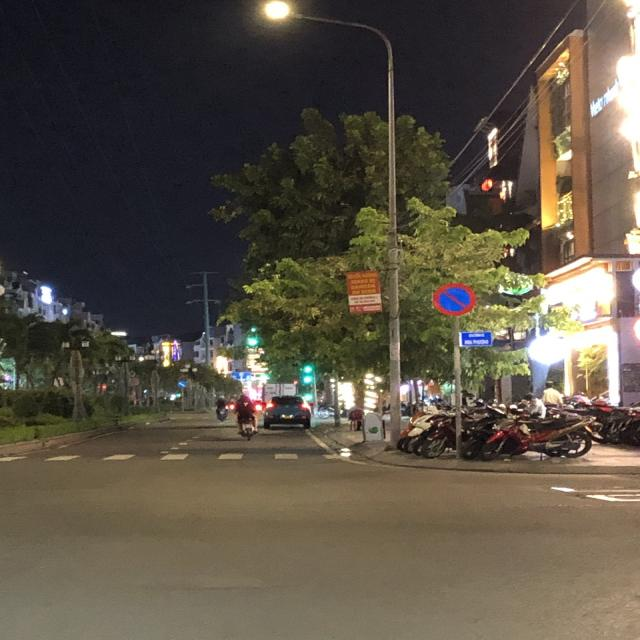Bien bao cam do xe: (429, 280, 482, 318)
